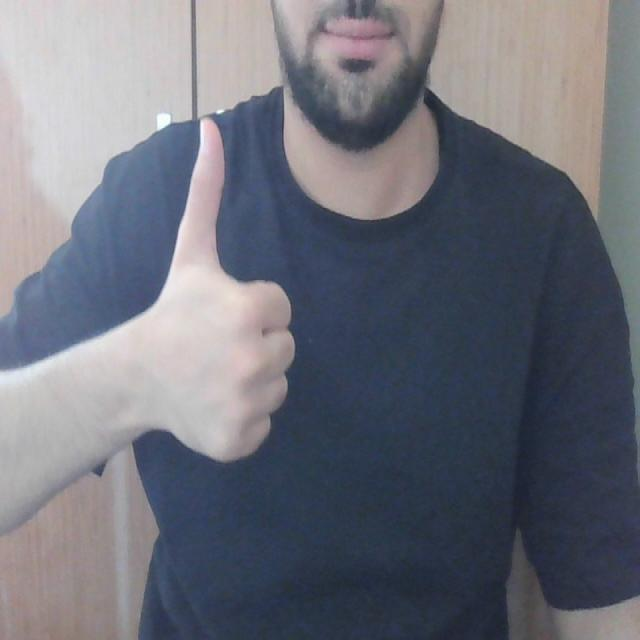Tamam: (138, 114, 302, 466)
